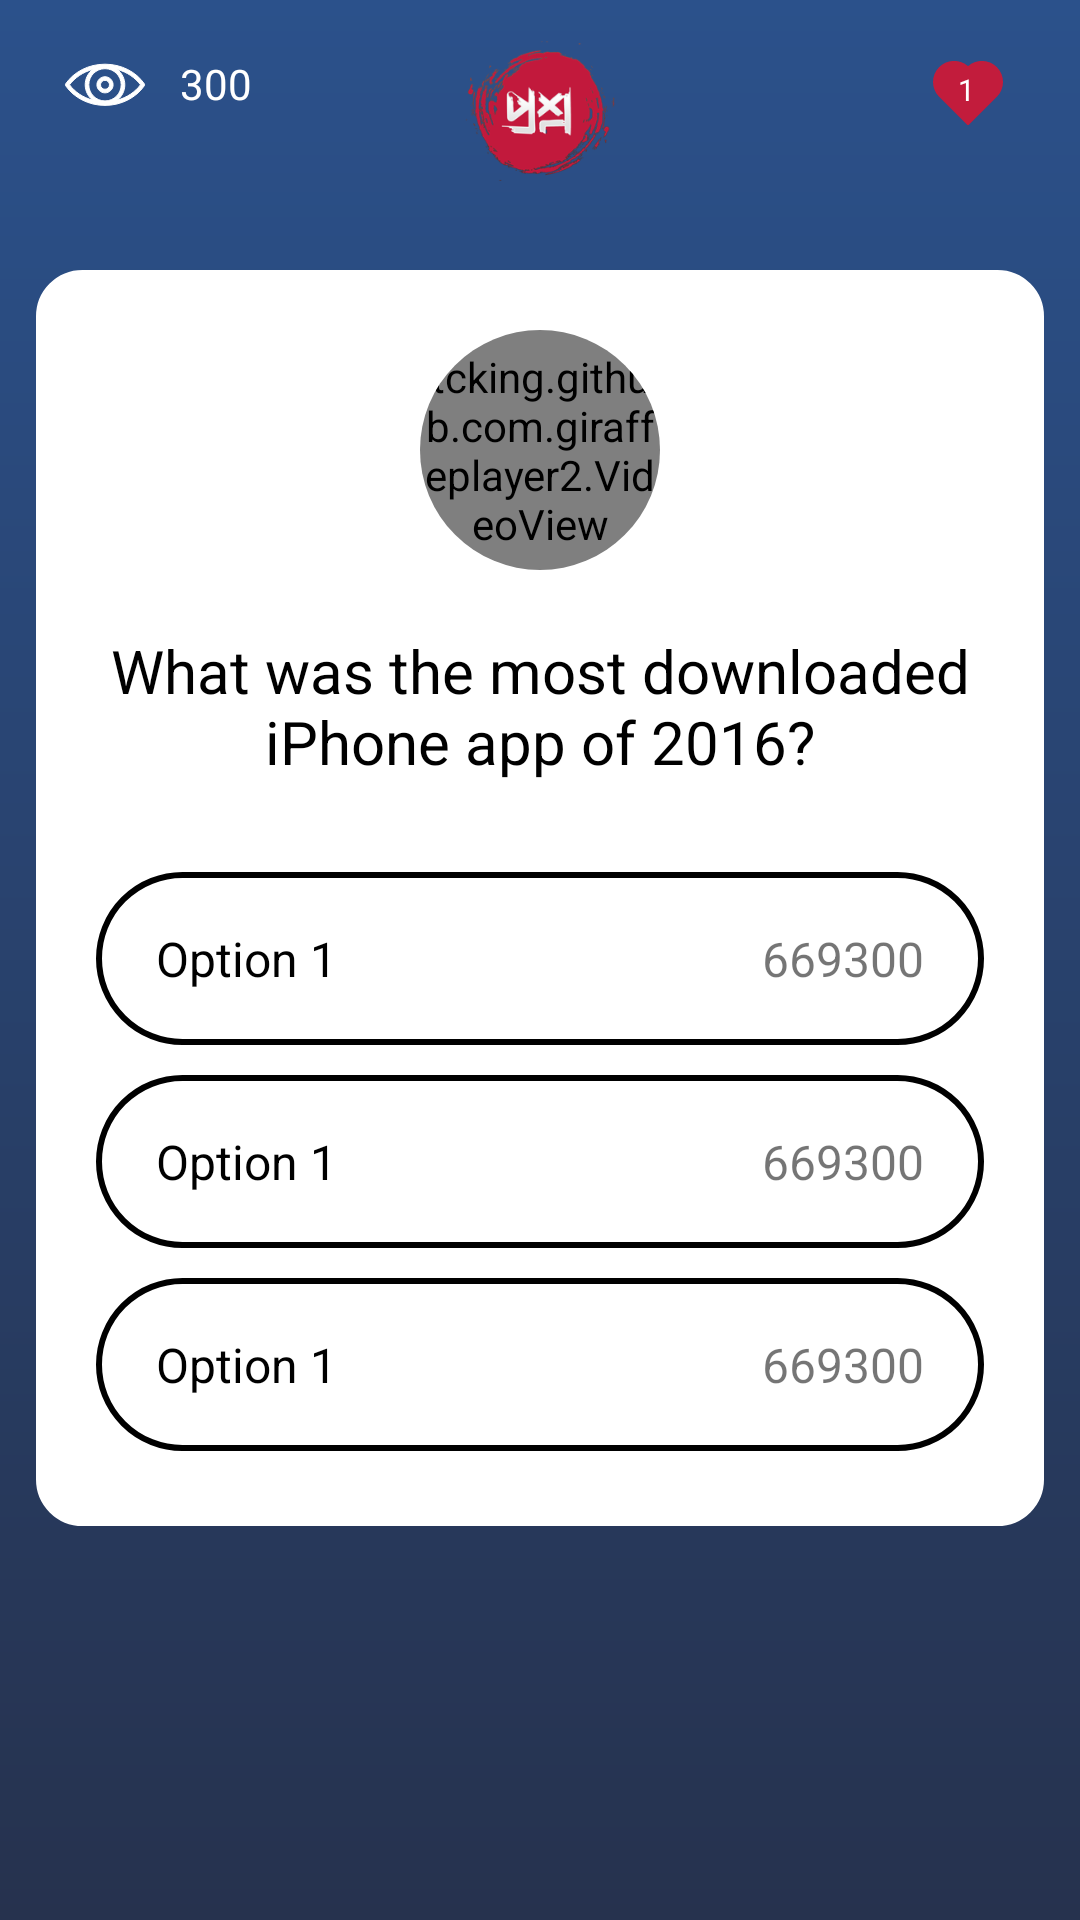

Named icons in this screenshot (1080 × 1920) and their bounding boxes, [x1, y1, x2, y2]:
extra lives: [933, 61, 1003, 125]
eye: [65, 63, 145, 106]
